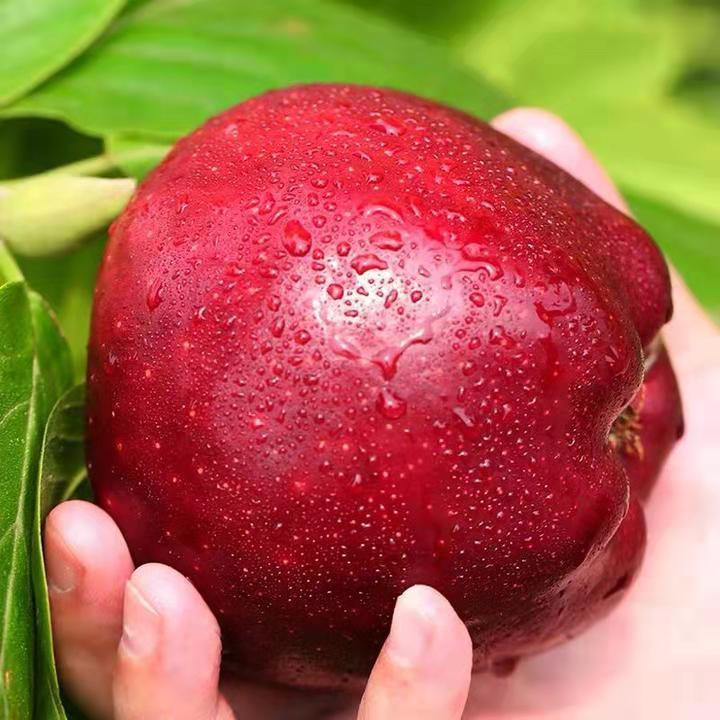apple: (64, 83, 684, 700)
